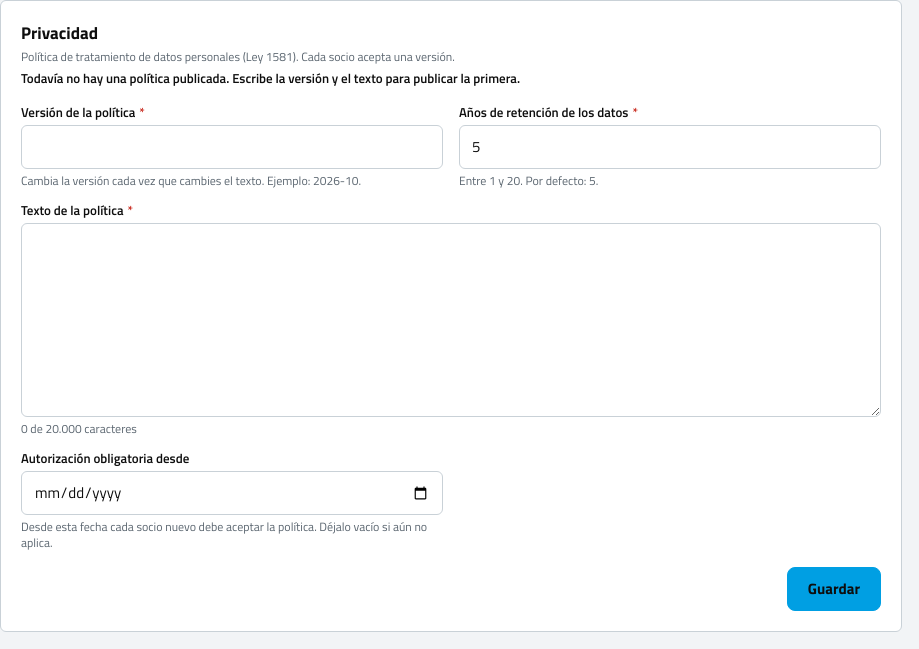
Test: PrivacySettingsForm › la primera publicación guarda sin pedir confirmación
This screenshot has width=919, height=649.
Step 1. Type "2026-10" into the field labelled "Versión de la política*" → (232, 147), box [21,125,443,169]
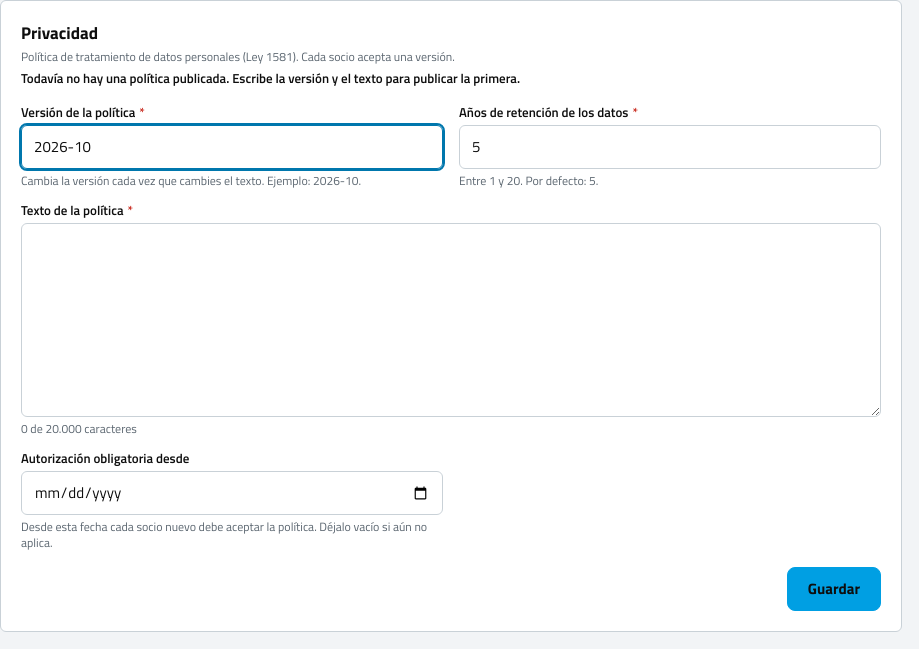
Step 2. Type "Autorizo." into the text box labelled "Texto de la política*" → (451, 320), box [21,223,881,417]
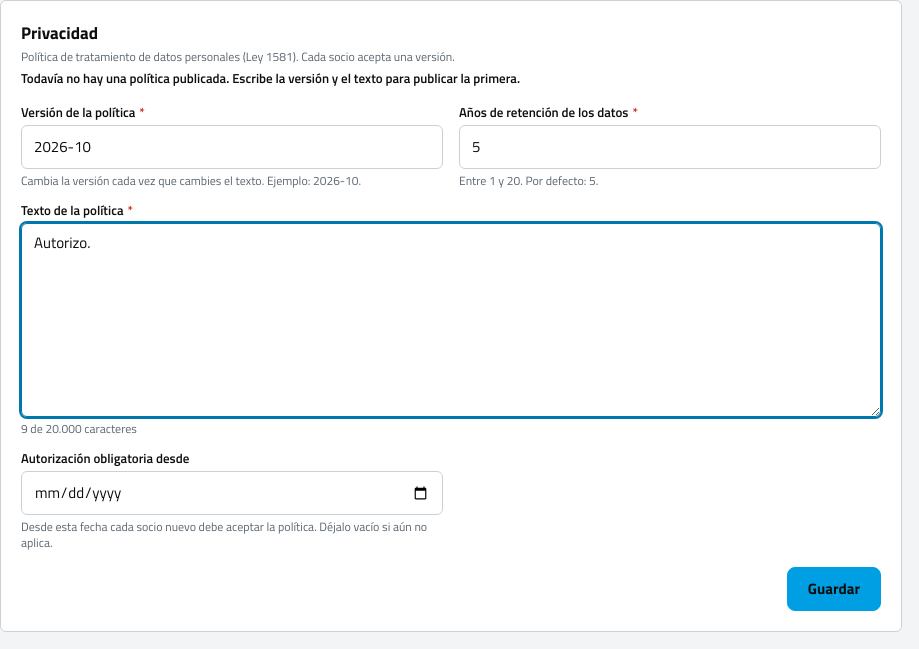
Step 3. Click the button "Guardar" → (834, 589), box [787,567,881,611]
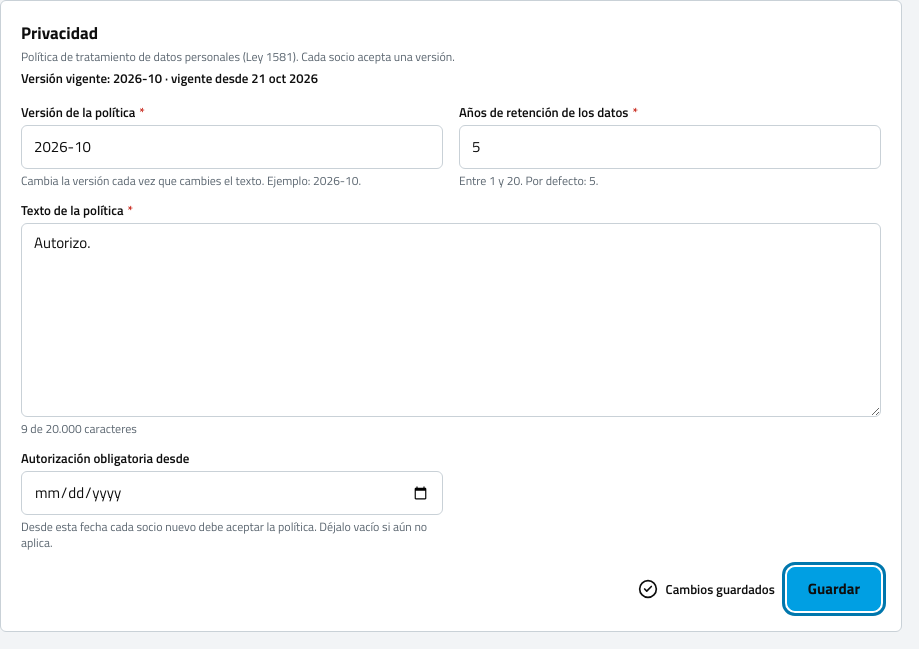
Expected: the text "Cambios guardados" is shown, [638,579,775,599]
